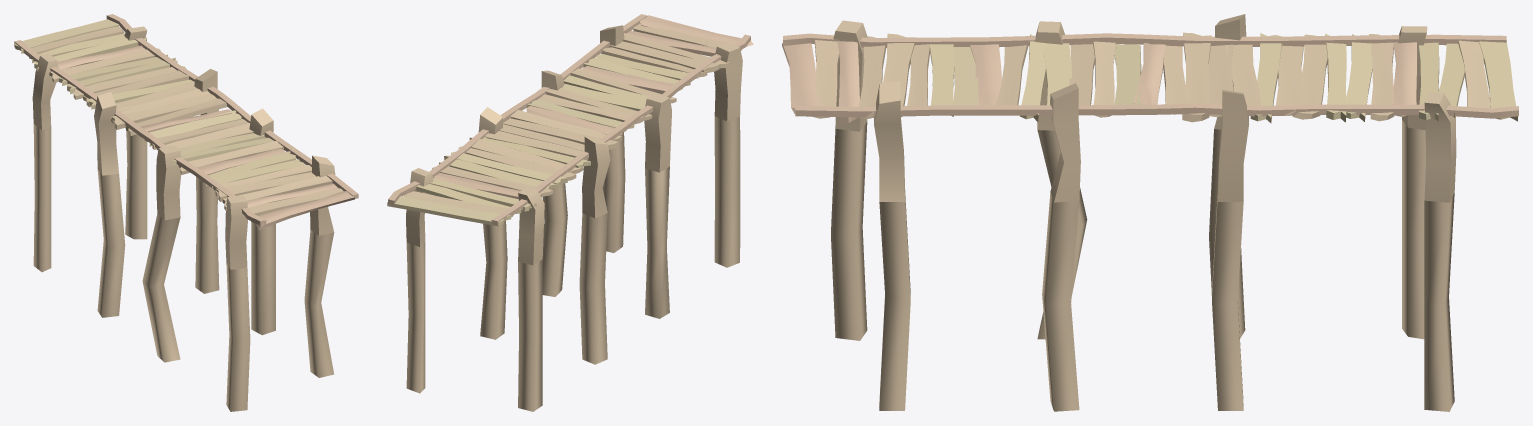
The model's file is Bridge.fbx.
The picture shows the model from 3 angles, left to right: view 1: azimuth 30°, elevation 25°; view 2: azimuth 150°, elevation 25°; view 3: azimuth 270°, elevation 25°; orthographic projection. The views are drawn at different scales.
Parts seen in each view (by area): view 1: Boat_Dock; view 2: Boat_Dock; view 3: Boat_Dock.
Part boxes in pixels (x1=…): Boat_Dock: x1=14, y1=14, x2=358, y2=411; Boat_Dock: x1=387, y1=14, x2=753, y2=411; Boat_Dock: x1=782, y1=14, x2=1518, y2=411.
Bounding box in the file's own units: 449 × 761 × 1590.
